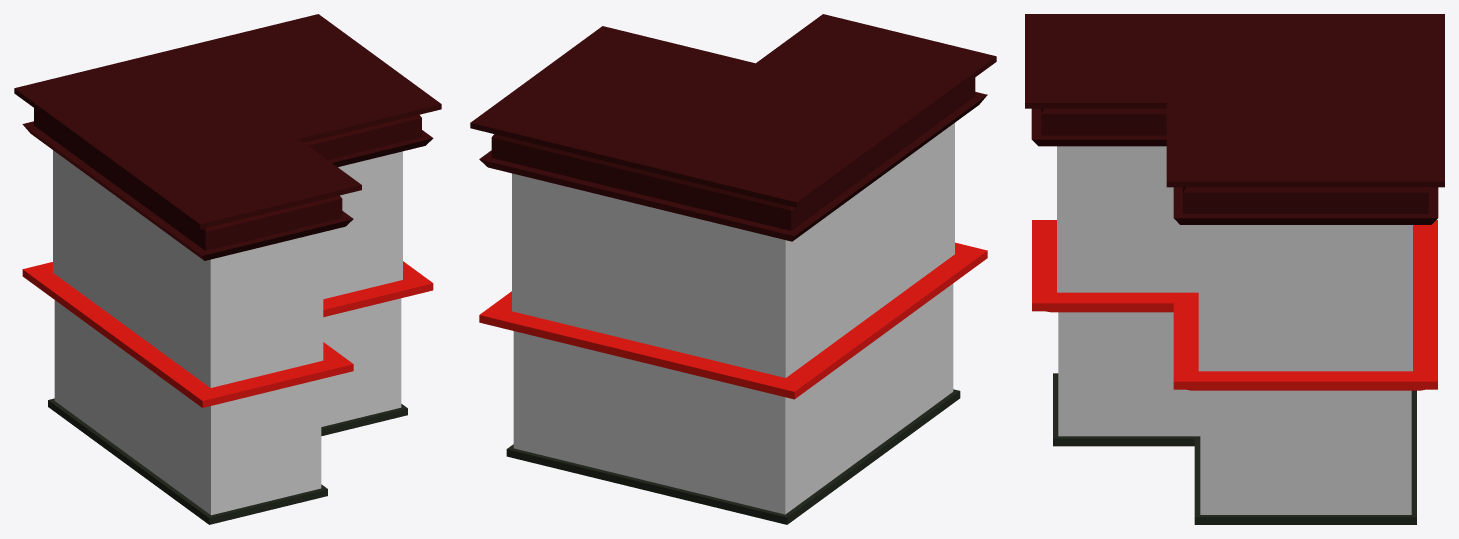
Rendered from Edificio2_x1 (1).FBX.
3 renders of one model, left to right at view 1: azimuth 30°, elevation 25°; view 2: azimuth 150°, elevation 25°; view 3: azimuth 270°, elevation 25°, orthographic. The views are drawn at different scales.
Parts seen in each view (by area): view 1: Edificio2_x1; view 2: Edificio2_x1; view 3: Edificio2_x1.
Part boxes in pixels (x1,y1,x2,y2): Edificio2_x1: (14,14,441,524); Edificio2_x1: (470,14,996,524); Edificio2_x1: (1025,14,1444,524).
Bounding box in the file's own units: 520 × 514 × 551.
